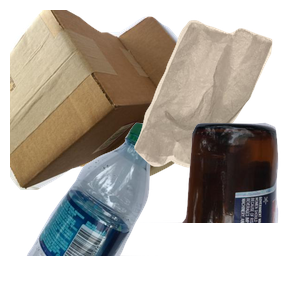cardboard: (10, 10, 206, 190)
glass: (87, 120, 300, 300)
plastic: (24, 120, 182, 300)
trash: (132, 17, 300, 177)
